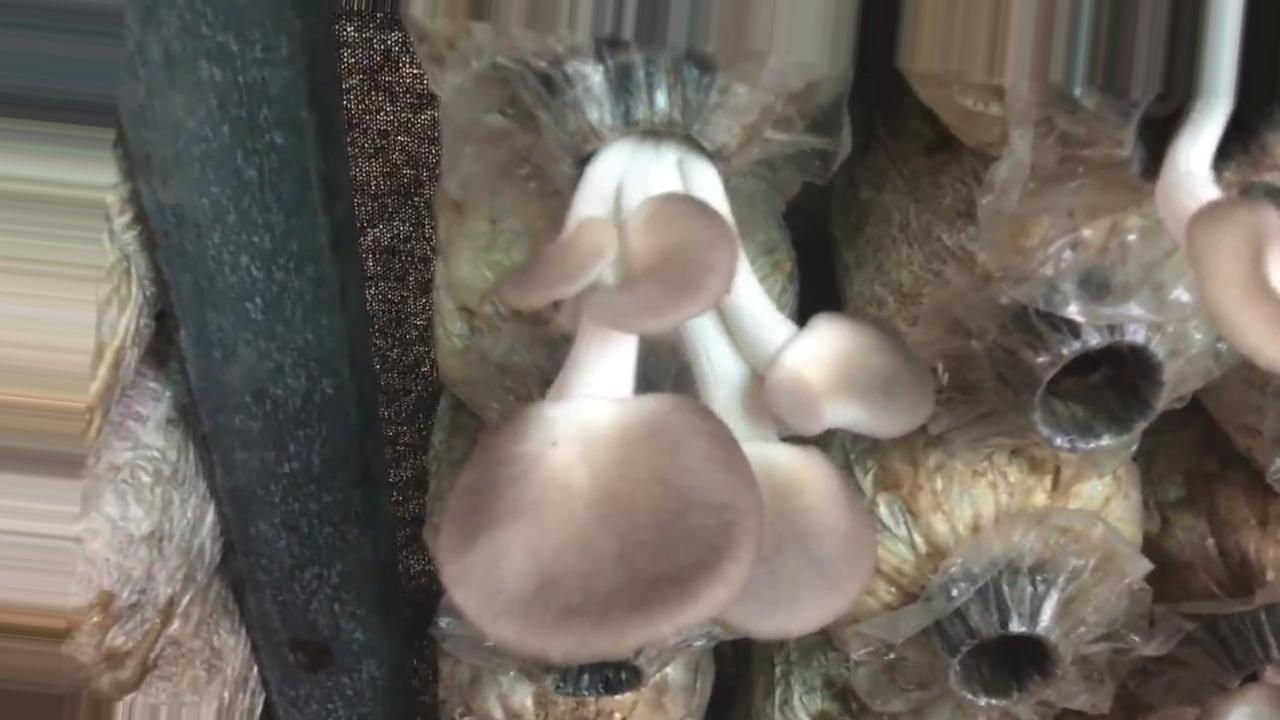nam: (442, 55, 936, 663), (1156, 1, 1279, 371)
